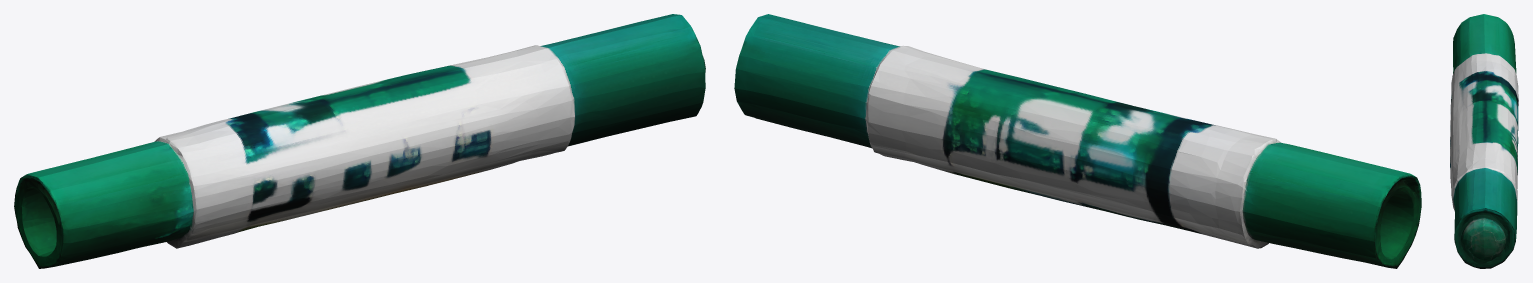
The picture shows the model from 3 angles, left to right: view 1: azimuth 30°, elevation 25°; view 2: azimuth 150°, elevation 25°; view 3: azimuth 270°, elevation 25°; orthographic projection. The views are drawn at different scales.
Parts seen in each view (by area): view 1: world; view 2: world; view 3: world.
Part boxes in pixels (x1,y1,x2,y2): world: (14,14,705,268); world: (734,14,1421,268); world: (1450,14,1518,268).
Size of the model in its own units: 0.9861 by 0.1503 by 0.1425.
1 material, 1 textured.
